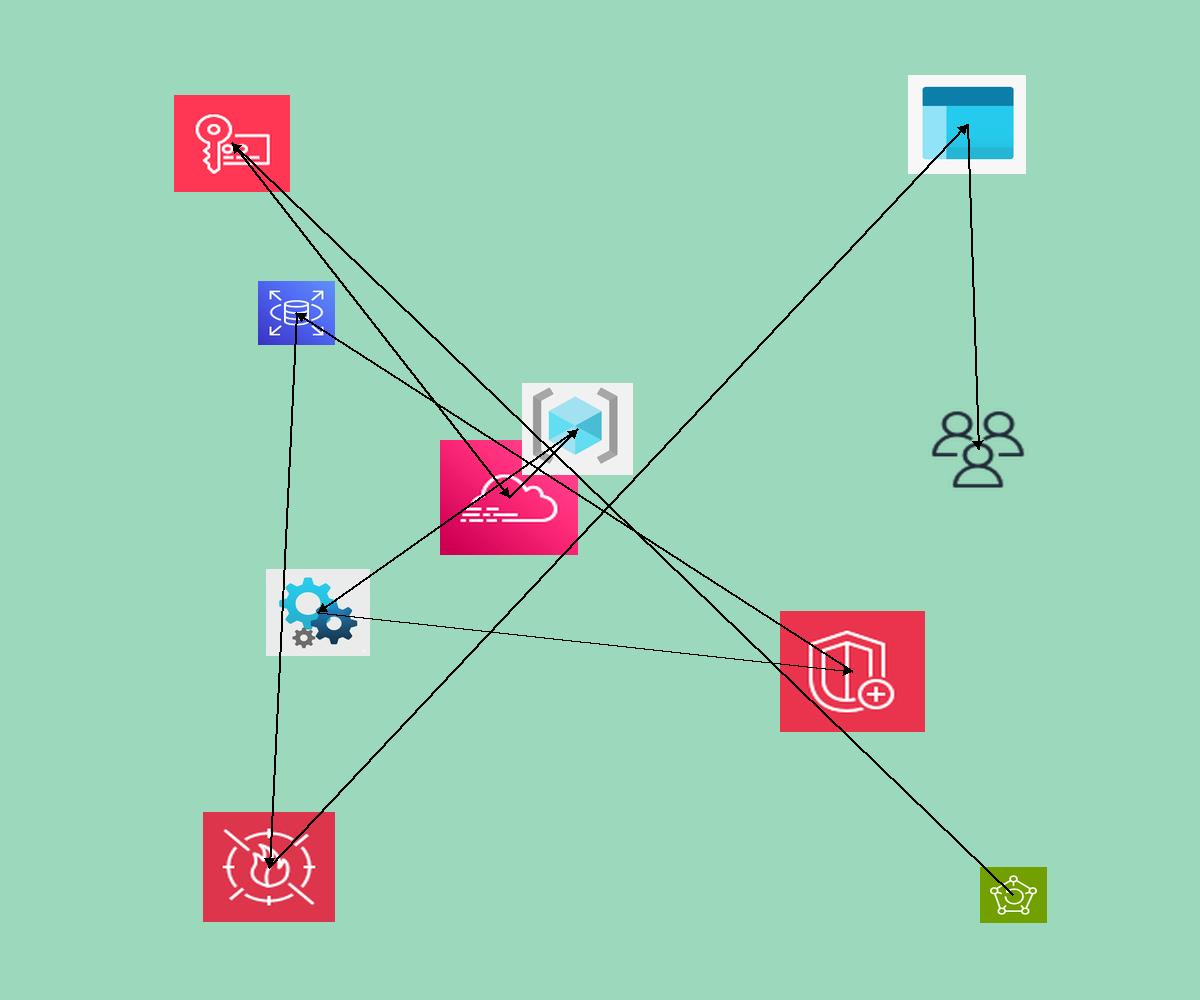AWS-Backup: (980, 867, 1047, 923)
AWS-CloudTrail: (440, 440, 578, 555)
AWS-Key-Management-Service: (174, 95, 290, 192)
AWS-RDS: (258, 281, 335, 345)
AWS-Res_Users: (928, 408, 1028, 491)
AWS-Shield: (780, 611, 925, 732)
AWS-WAF: (203, 812, 335, 922)
Azure_api: (266, 569, 370, 656)
Azure_management-portal: (908, 75, 1026, 174)
Azure_resource_group: (522, 383, 633, 475)
